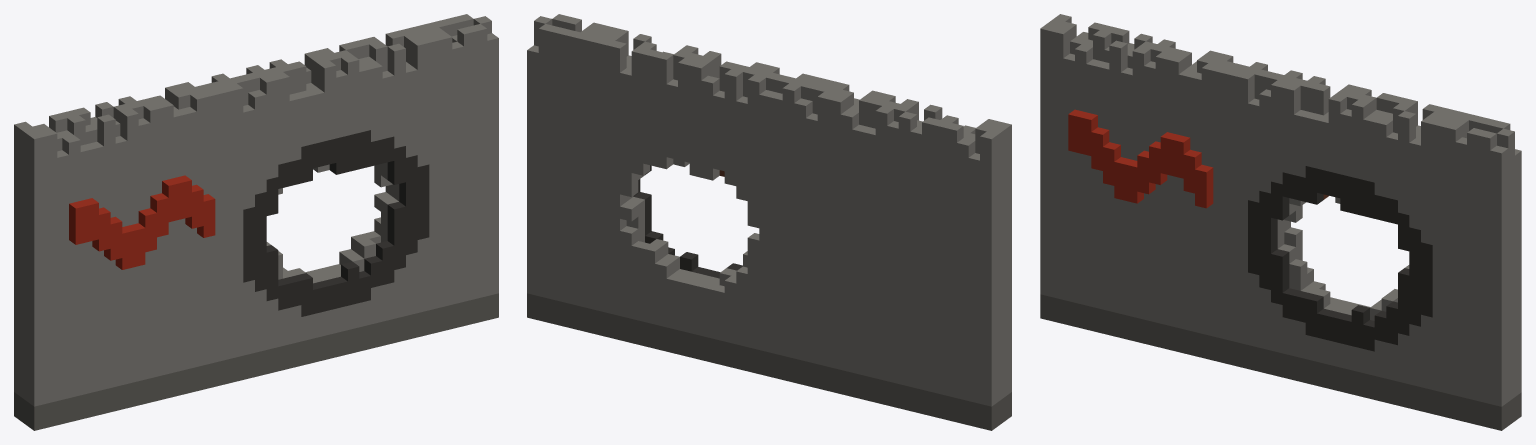
File: prop_partition.glb
3 renders of one model, left to right at view 1: azimuth 30°, elevation 25°; view 2: azimuth 150°, elevation 25°; view 3: azimuth 330°, elevation 25°, orthographic.
Visible parts, largest first — view 1: prop_partition; view 2: prop_partition; view 3: prop_partition.
Boxes of the visible parts, left/top/right/bottom form: prop_partition: left=14, top=14, right=498, bottom=430; prop_partition: left=527, top=14, right=1011, bottom=430; prop_partition: left=1040, top=14, right=1521, bottom=430.
Size of the model in its own units: 4 by 2.4 by 0.3999.
